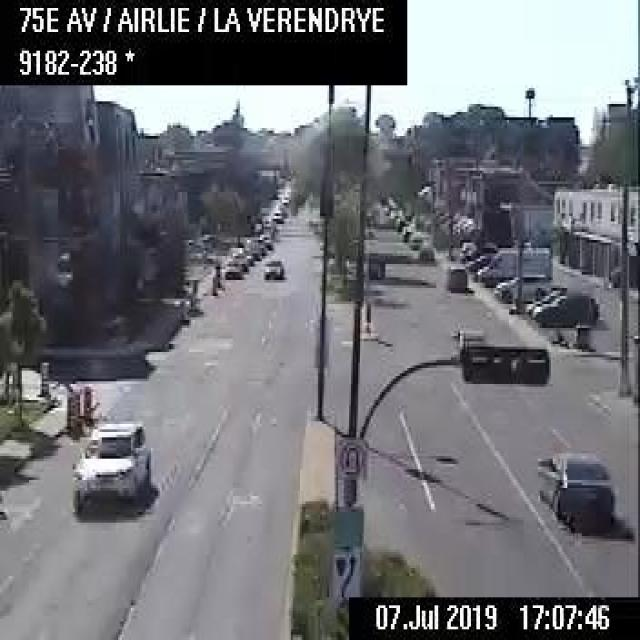construction: (189, 278, 204, 315), (65, 391, 78, 432), (38, 358, 49, 398), (81, 384, 91, 418), (212, 262, 220, 287), (209, 273, 216, 293)
vehicle: (71, 416, 151, 512), (534, 451, 611, 525), (475, 245, 552, 282), (532, 293, 599, 324), (496, 276, 550, 303), (453, 320, 485, 355), (444, 259, 467, 288), (465, 252, 489, 271), (262, 257, 283, 278), (220, 259, 241, 277), (416, 240, 435, 258), (230, 251, 247, 270), (407, 230, 423, 250), (398, 225, 413, 241), (258, 231, 272, 248), (269, 208, 282, 221)
